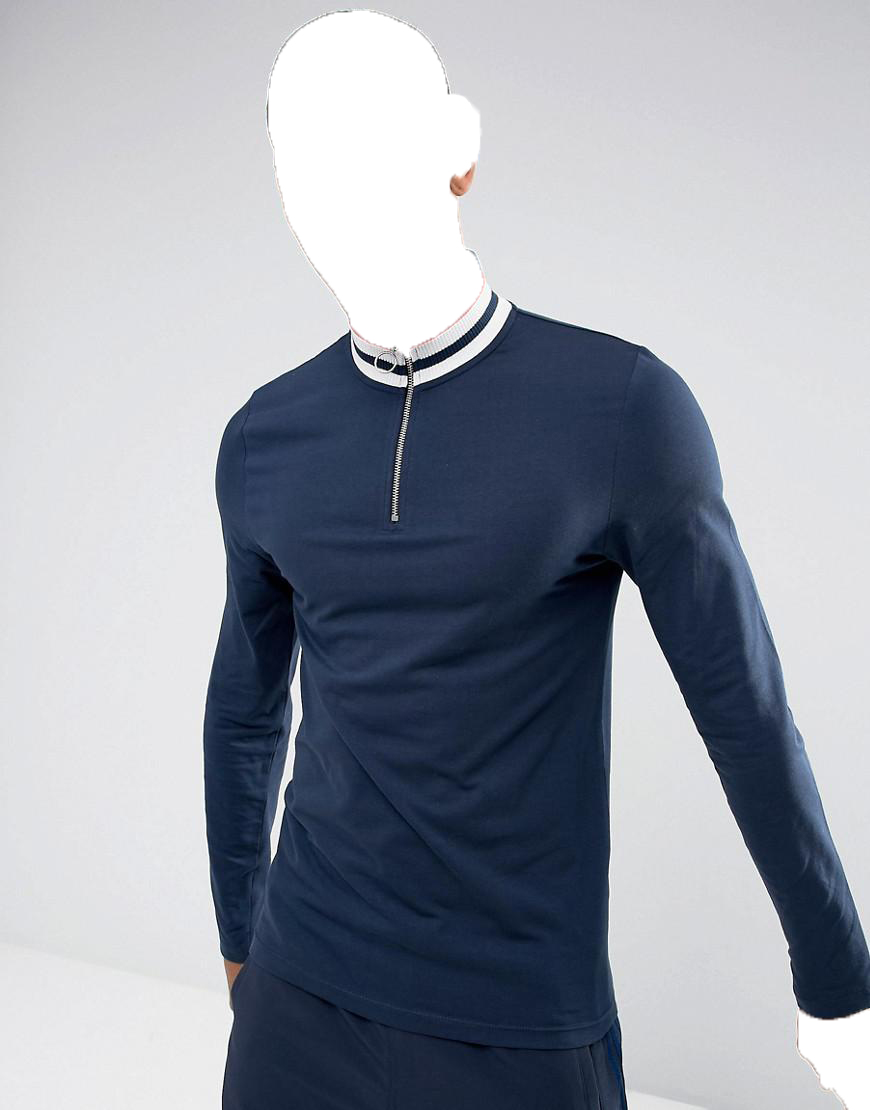teeshirt: (156, 279, 870, 1052)
